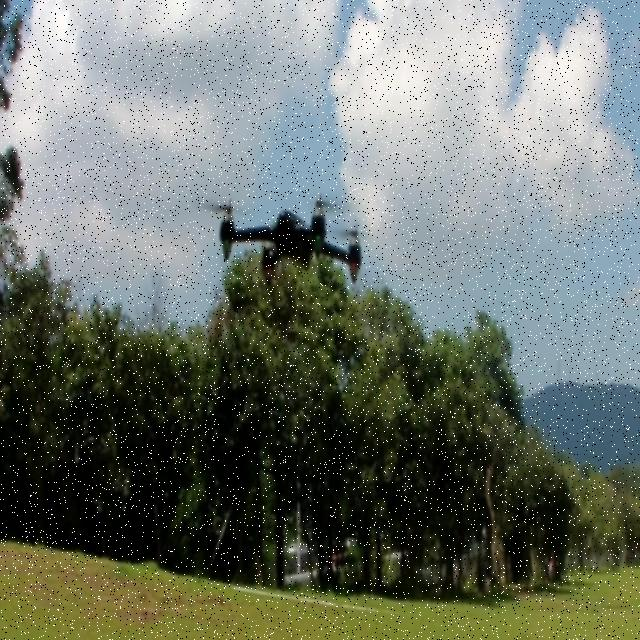UAV: (215, 189, 365, 290)
